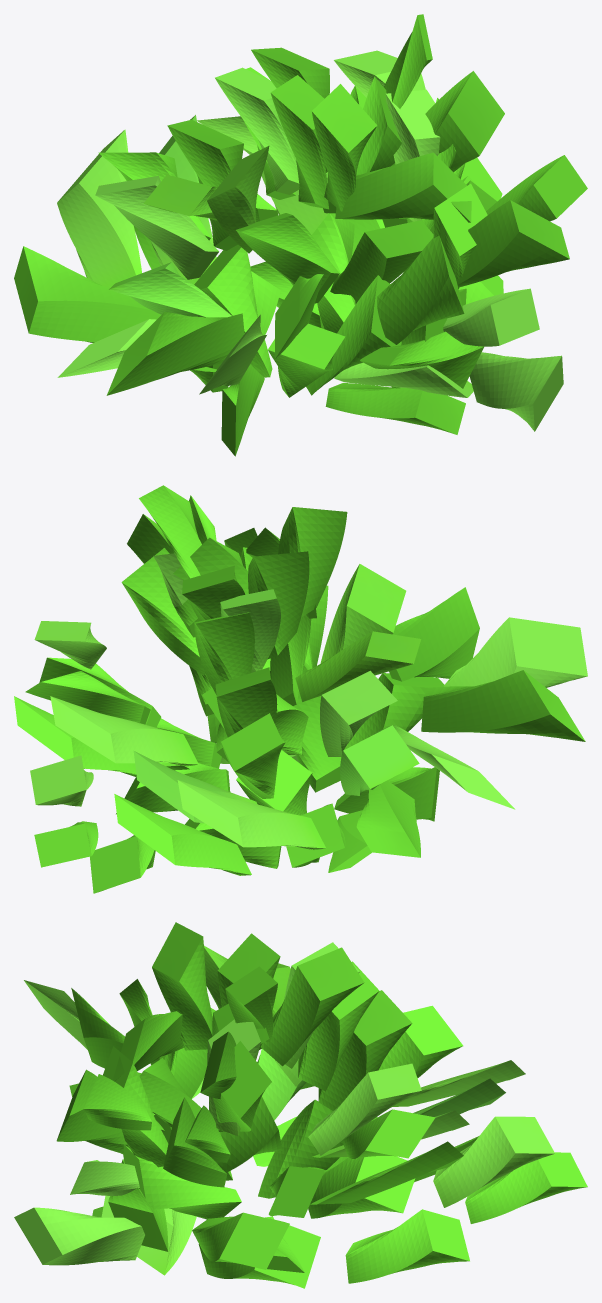
The model's file is bush.glb.
3 views of the same model, one above another, from view 1: azimuth 30°, elevation 25°; view 2: azimuth 150°, elevation 25°; view 3: azimuth 270°, elevation 25° (orthographic). The views are drawn at different scales.
Parts seen in each view (by area): view 1: Good 50, Good 49, Good 8, Good 43, Good 44, Good 7, Good 55, Good 5, Good 27, Good, Good 38, Good 24 (+35 smaller); view 2: Good 8, Good 9, Good 49, Good 48, Good 4, Good 46, Good 57, Good 56, Good 27, Good 31, Good 50, Good 55 (+34 smaller); view 3: Good 5, Good 29, Good 28, Good 32, Good 27, Good 33, Good 23, Good 34, Good 19, Good 26, Good 2, Good 18 (+35 smaller).
Part boxes in pixels (x1,y1,x2,y2): Good 50: (14, 246, 161, 342); Good 49: (57, 129, 141, 288); Good 8: (106, 312, 244, 395); Good 43: (335, 152, 471, 222); Good 44: (456, 200, 569, 287); Good 7: (377, 235, 464, 344); Good 55: (95, 175, 218, 279); Good 5: (469, 352, 563, 431); Good 27: (311, 84, 377, 211); Good: (325, 383, 465, 434); Good 38: (391, 71, 504, 168); Good 24: (215, 67, 299, 194); Good 8: (421, 670, 585, 741); Good 9: (444, 617, 587, 687); Good 49: (177, 780, 325, 850); Good 48: (50, 696, 198, 766); Good 4: (389, 587, 479, 681); Good 46: (114, 794, 251, 875); Good 57: (320, 564, 406, 663); Good 56: (295, 631, 421, 701); Good 27: (278, 507, 347, 617); Good 31: (121, 548, 205, 675); Good 50: (356, 780, 420, 857); Good 55: (320, 670, 397, 756); Good 5: (14, 1207, 144, 1265); Good 29: (345, 1209, 469, 1283); Good 28: (260, 947, 364, 1066); Good 32: (433, 1116, 554, 1207); Good 27: (152, 922, 212, 1050); Good 33: (465, 1152, 587, 1223); Good 23: (318, 990, 412, 1110); Good 34: (308, 1063, 421, 1155); Good 19: (192, 1212, 289, 1269); Good 26: (298, 961, 379, 1091); Good 2: (123, 1144, 241, 1219); Good 18: (308, 1156, 415, 1218).
Bounding box in the file's own units: 0.4813 × 0.3392 × 0.5348.
